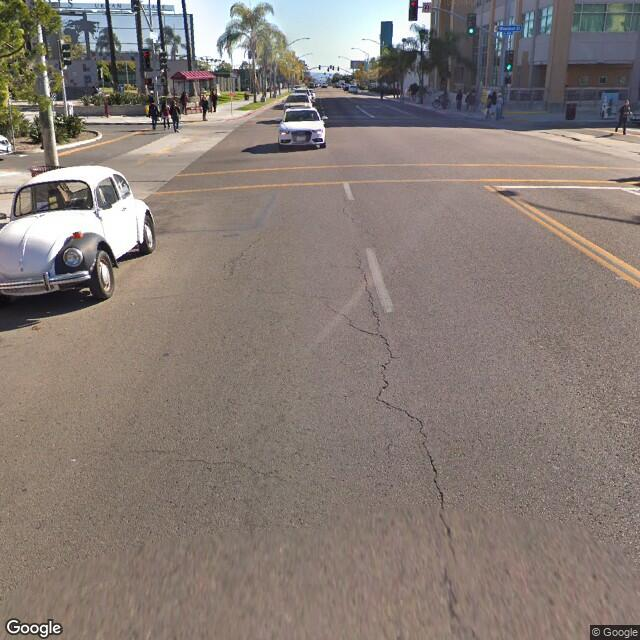road line: (336, 168, 408, 326), (489, 180, 593, 249)
window: (568, 5, 602, 38)
